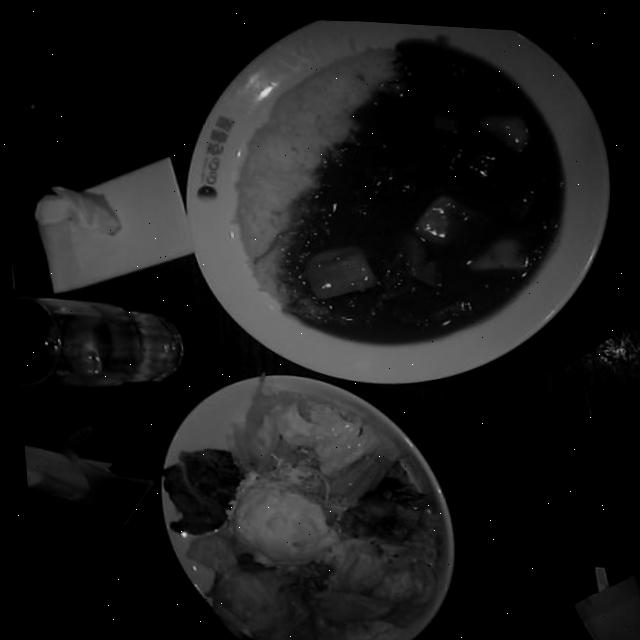牛肉菜式: (155, 7, 625, 395)
蔬菜料理: (142, 358, 460, 640)
